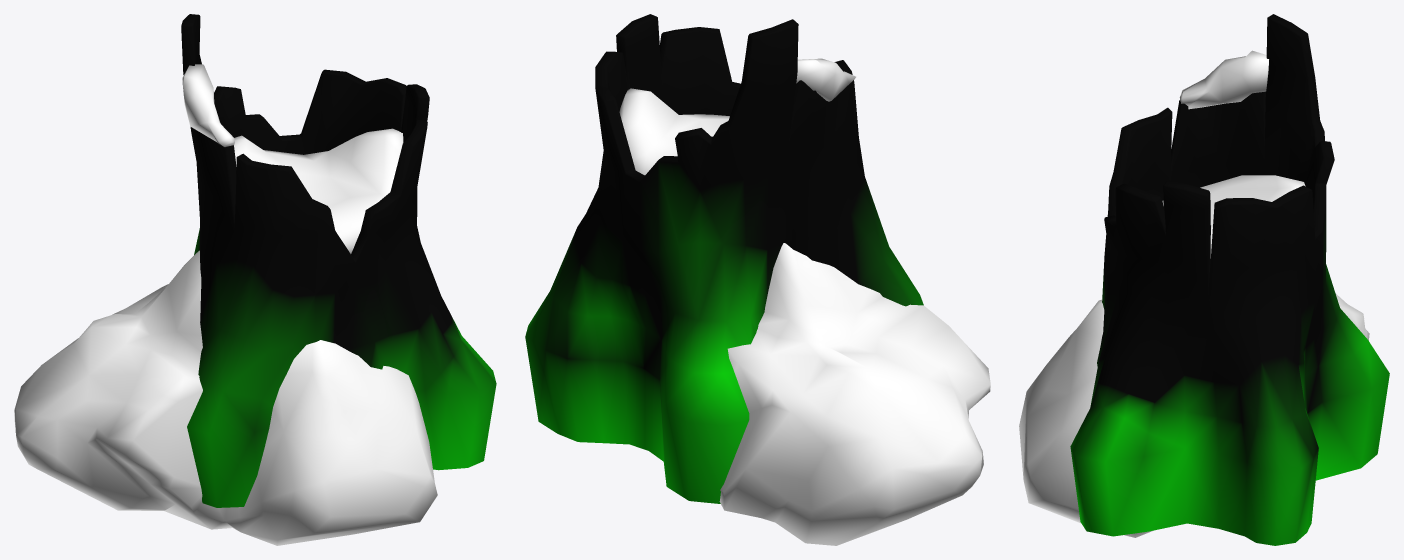
Rendered from SM_OakStump1_SnowCover.fbx.
3 renders of one model, left to right at view 1: azimuth 30°, elevation 25°; view 2: azimuth 150°, elevation 25°; view 3: azimuth 270°, elevation 25°, orthographic. The views are drawn at different scales.
Parts seen in each view (by area): view 1: SM_OakStump1_SnowCover; view 2: SM_OakStump1_SnowCover; view 3: SM_OakStump1_SnowCover.
Boxes of the visible parts, x1=… form: SM_OakStump1_SnowCover: x1=14, y1=14, x2=496, y2=545; SM_OakStump1_SnowCover: x1=525, y1=14, x2=990, y2=545; SM_OakStump1_SnowCover: x1=1019, y1=14, x2=1389, y2=545.
Size of the model in its own units: 345 by 371 by 269.
